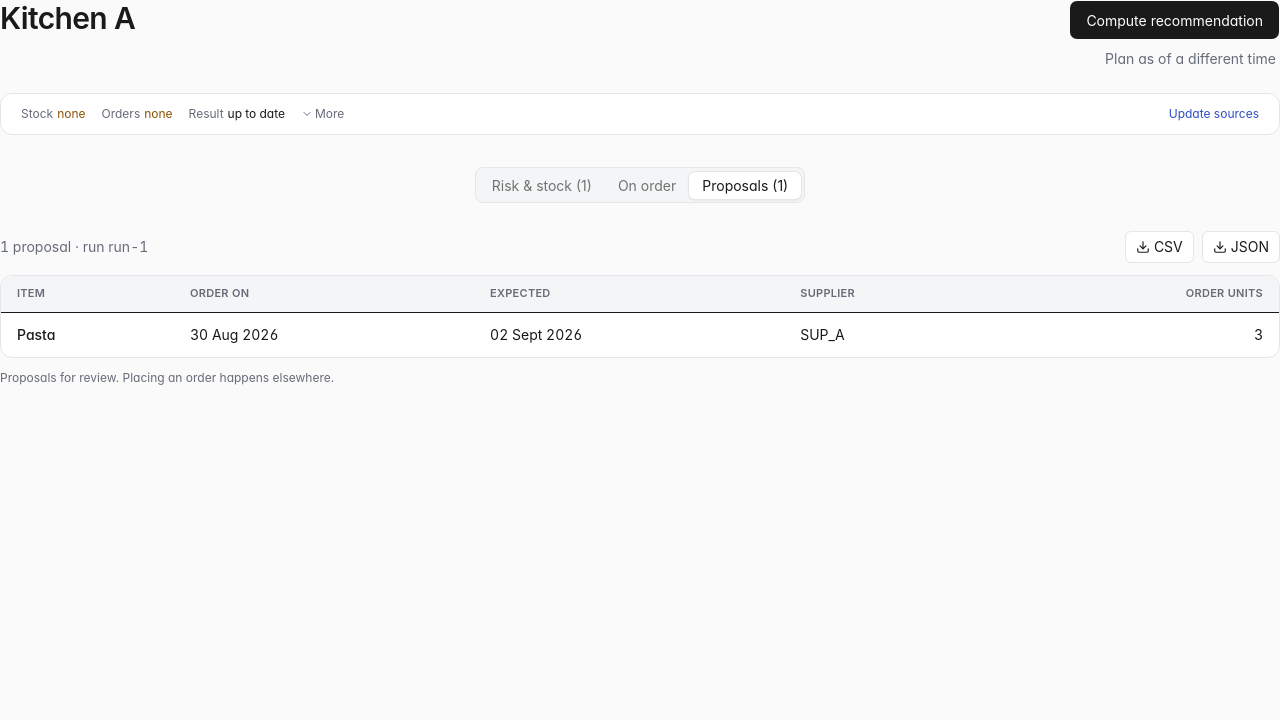
shelf-life evidence in the drawer › warns when the forecast does not reach the expiry
This screenshot has width=1280, height=720.
// A button, not a row click: the derivation must be keyboard reachable.
Click the button "Pasta" at (36, 334), box [13,320,59,348]
(page scrolled)
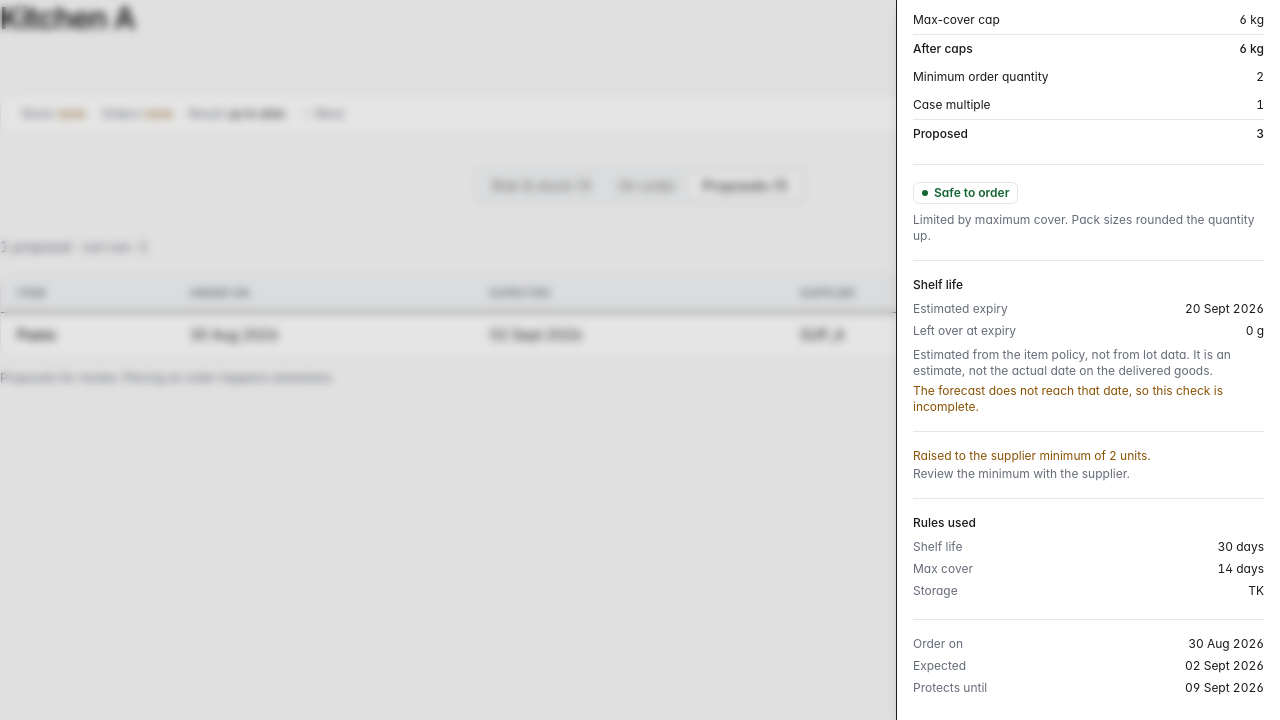
Check: the text "does not reach that date, so this check is incomplete" is shown, box [913,383,1223,414]
